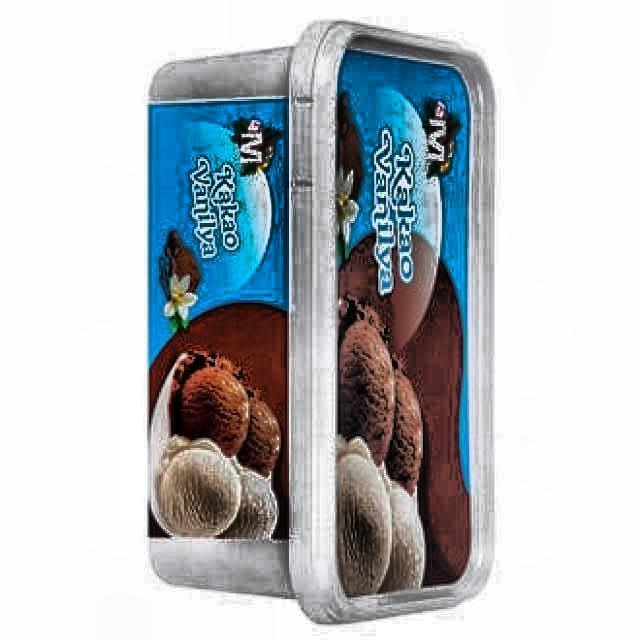plastic: (149, 22, 494, 622)
